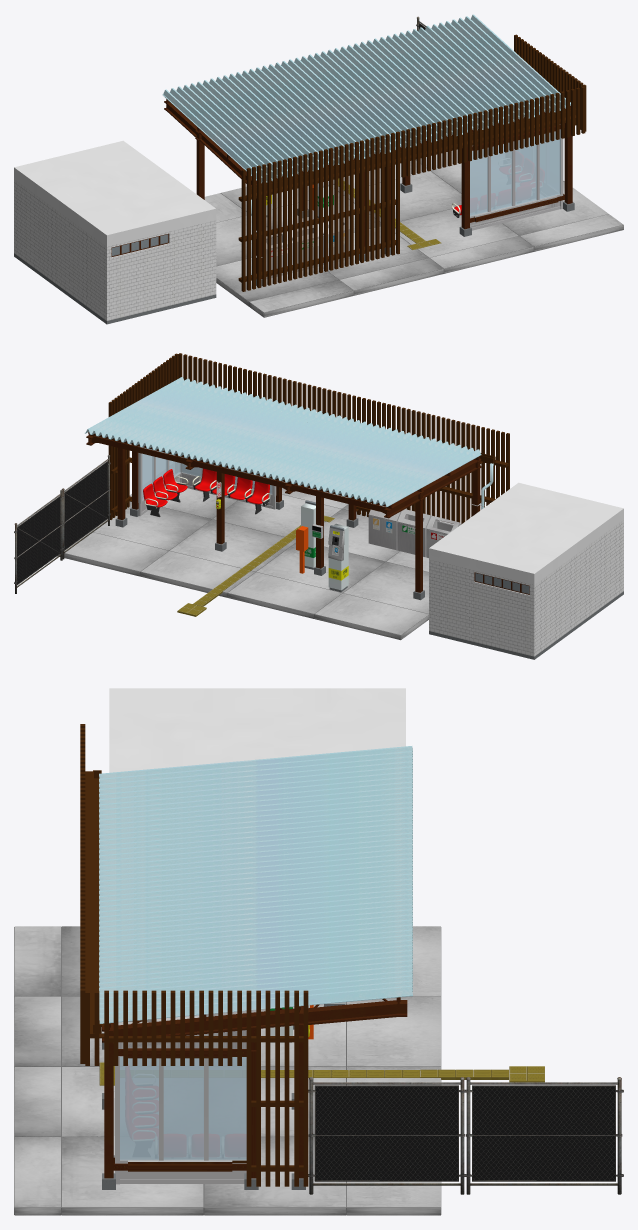
Rendered from mujineki.fbx.
3 renders of one model, top to bottom at view 1: azimuth 30°, elevation 25°; view 2: azimuth 150°, elevation 25°; view 3: azimuth 270°, elevation 25°, orthographic. The views are drawn at different scales.
Visible parts, largest first — view 1: 屋根, 壁鉄骨, 床, トイレ建物, トイレ建物屋根, ウィンドウガラス, 主鉄骨, ウィンドウ, 雨どい, 不透明ガラス, 土台; view 2: 床, 屋根, トイレ建物, 壁鉄骨, トイレ建物屋根, 主鉄骨, pasted__Body.fence01a_reference.smd.mesh_1, Body.fence01a_reference.smd.mesh_1, 椅子, IC出場, 椅子3連, ウィンドウガラス (+11 smaller); view 3: 屋根, 床, トイレ建物屋根, 壁鉄骨, Body.fence01a_reference.smd.mesh_1, pasted__Body.fence01a_reference.smd.mesh_1, ウィンドウガラス, 主鉄骨, ウィンドウ, Body.fence01a_reference.smd.mesh_0, pasted__Body.fence01a_reference.smd.mesh_0, 雨どい (+2 smaller).
Part boxes in pixels (<box>): 屋根: <box>162,14,570,183</box>; 壁鉄骨: <box>238,34,586,291</box>; 床: <box>204,149,623,317</box>; トイレ建物: <box>14,179,216,324</box>; トイレ建物屋根: <box>14,140,216,246</box>; ウィンドウガラス: <box>470,129,560,216</box>; 主鉄骨: <box>164,99,572,278</box>; ウィンドウ: <box>470,124,564,230</box>; 雨どい: <box>251,108,576,274</box>; 不透明ガラス: <box>111,233,168,256</box>; 土台: <box>256,183,574,286</box>; 床: <box>57,481,428,640</box>; 屋根: <box>85,377,481,506</box>; トイレ建物: <box>429,520,623,659</box>; 壁鉄骨: <box>108,353,509,524</box>; トイレ建物屋根: <box>429,482,623,585</box>; 主鉄骨: <box>86,432,481,592</box>; pasted__Body.fence01a_reference.smd.mesh_1: <box>17,496,60,584</box>; Body.fence01a_reference.smd.mesh_1: <box>64,462,107,549</box>; 椅子: <box>192,468,270,514</box>; IC出場: <box>328,523,348,592</box>; 椅子3連: <box>143,469,188,516</box>; ウィンドウガラス: <box>142,447,272,500</box>; 屋根: <box>99,746,412,1023</box>; 床: <box>14,926,441,1215</box>; トイレ建物屋根: <box>109,688,405,772</box>; 壁鉄骨: <box>80,724,308,1186</box>; Body.fence01a_reference.smd.mesh_1: <box>315,1086,458,1180</box>; pasted__Body.fence01a_reference.smd.mesh_1: <box>472,1086,615,1180</box>; ウィンドウガラス: <box>120,1057,246,1160</box>; 主鉄骨: <box>102,997,407,1178</box>; ウィンドウ: <box>113,1022,246,1184</box>; Body.fence01a_reference.smd.mesh_0: <box>308,1077,466,1194</box>; pasted__Body.fence01a_reference.smd.mesh_0: <box>464,1077,623,1194</box>; 雨どい: <box>93,770,101,1033</box>.
Size of the model in its own units: 15.16 by 3.92 by 10.28.
15 materials, 14 textured.
